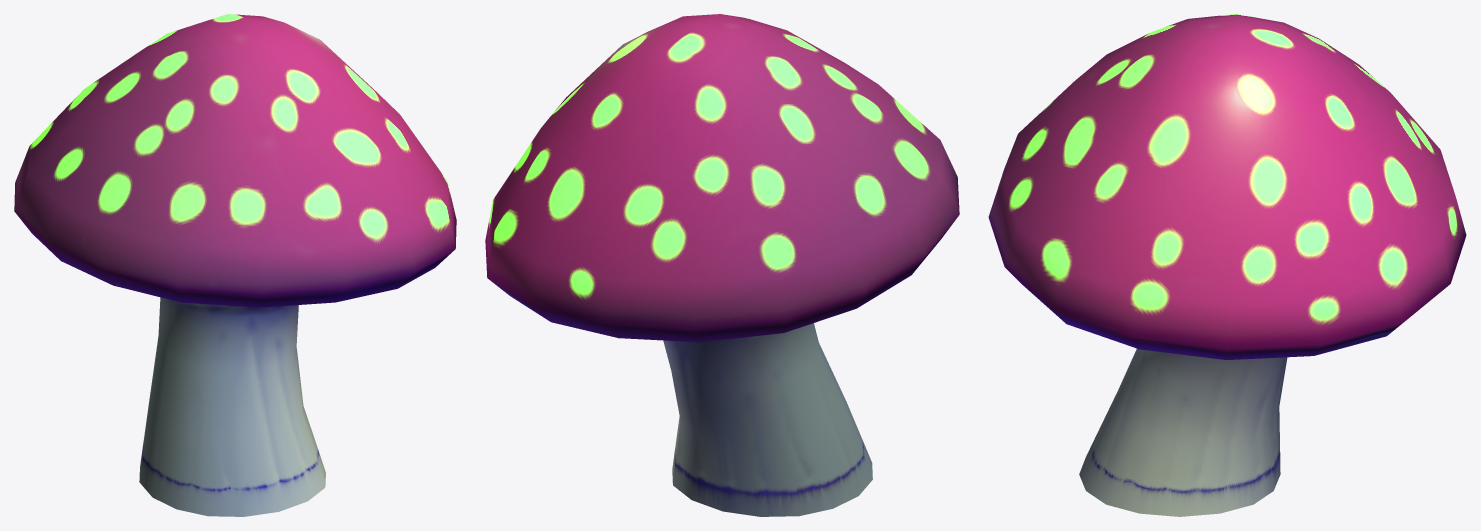
Rendered from mushroom.glb.
3 renders of one model, left to right at view 1: azimuth 30°, elevation 25°; view 2: azimuth 150°, elevation 25°; view 3: azimuth 270°, elevation 25°, orthographic. The views are drawn at different scales.
Parts seen in each view (by area): view 1: g; view 2: g; view 3: g.
Part boxes in pixels (bbox=[...]): g: bbox=[14, 14, 456, 516]; g: bbox=[485, 14, 959, 516]; g: bbox=[988, 14, 1466, 516].
Size of the model in its own units: 1.85 by 2 by 1.86.
1 material, 1 textured.
